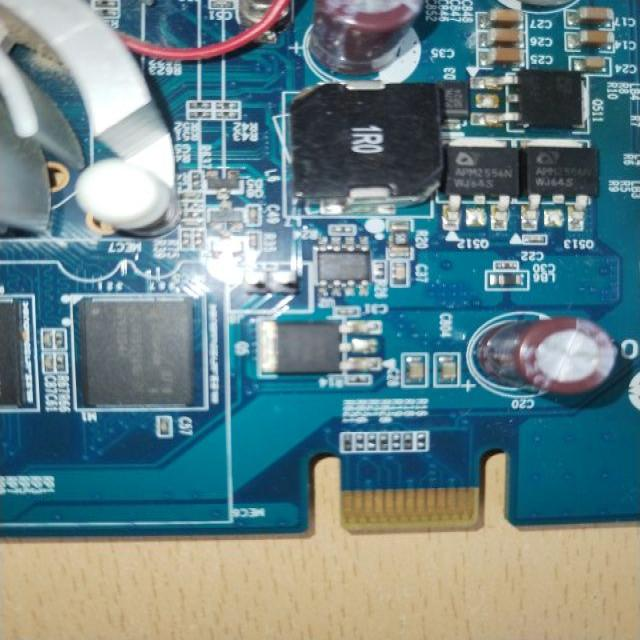capacitor: (579, 3, 614, 31), (485, 11, 526, 33), (493, 40, 523, 66), (487, 24, 517, 42), (578, 30, 609, 47), (577, 58, 605, 72)
resistor: (418, 426, 429, 461), (355, 431, 368, 454), (392, 429, 401, 458), (340, 432, 353, 452), (379, 434, 388, 456), (405, 430, 412, 452)
